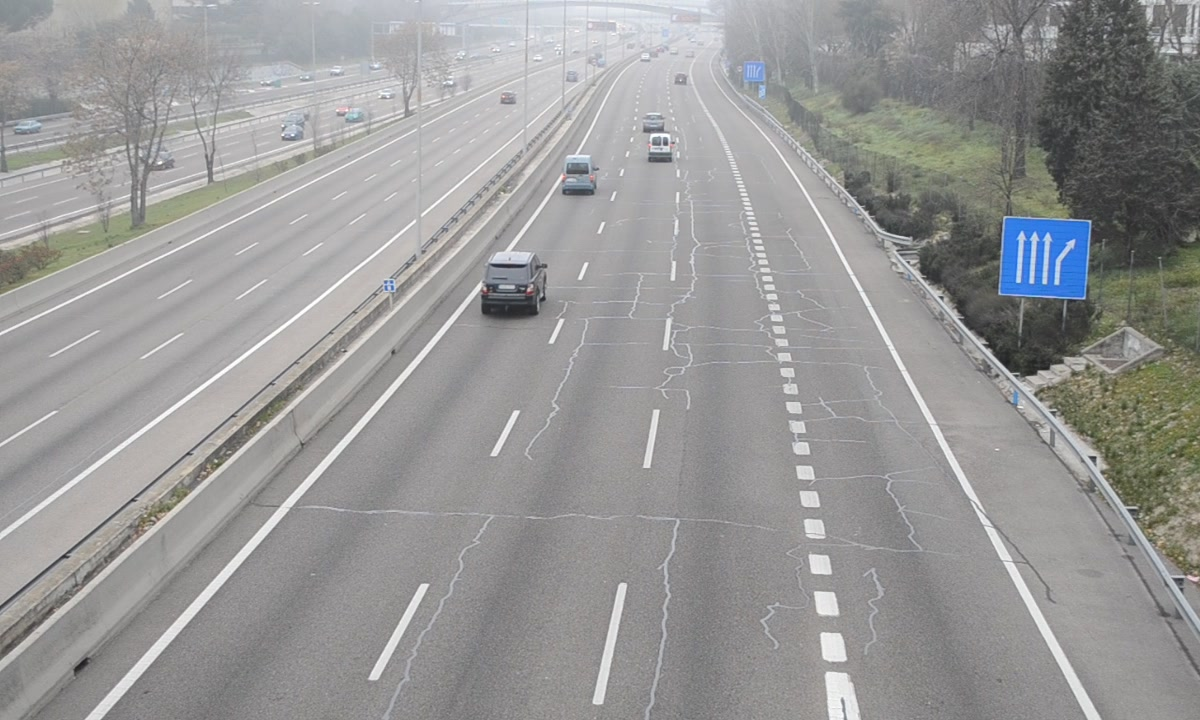car: (480, 252, 548, 309)
van: (561, 154, 594, 193), (647, 130, 674, 165)
